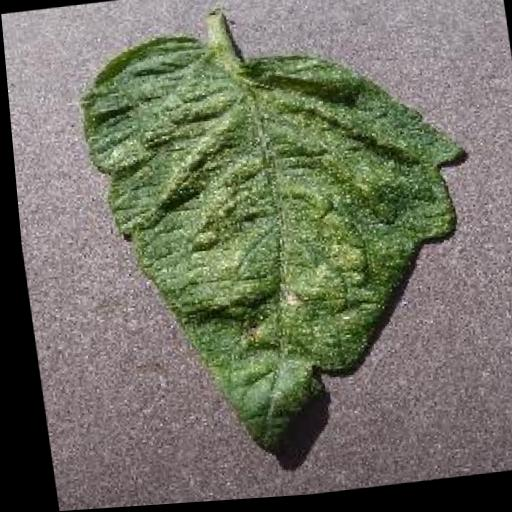Spider Mites: (69, 7, 494, 477)
